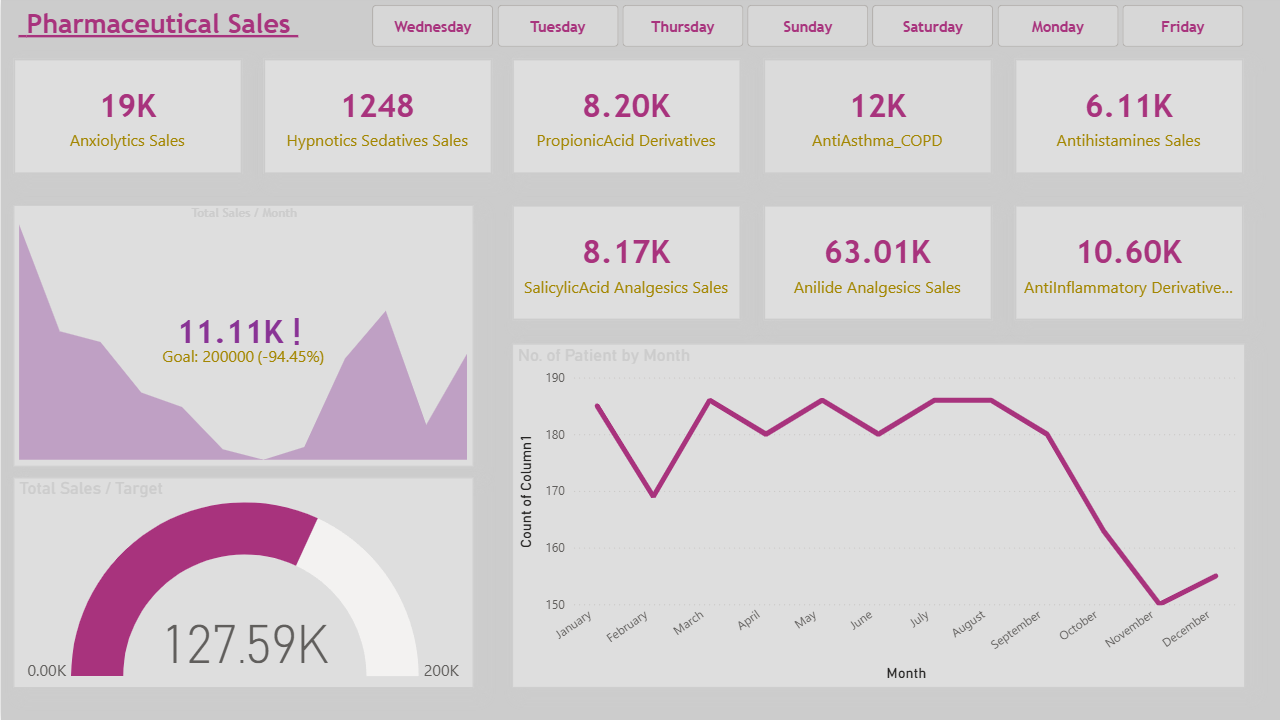

Layout of this report page (visuals, bound fields, positions):
{"tool":"powerbi","page":{"name":"Page 1","canvas":[1280,720],"ordinal":0},"visuals":[{"type":"kpi","title":"Total Sales / Month","fields":{"TrendLine":["cleaned_data.Month"],"Indicator":["cleaned_data.Total Sales"],"Goal":["cleaned_data.Target"]},"box":[12.5,205,460,261.2],"z":0},{"type":"card","fields":{"Values":["Sum(cleaned_data.Anilide_Analgesics_Sales)"]},"box":[762.5,205,228.8,115],"z":1000},{"type":"card","fields":{"Values":["Sum(cleaned_data.AntiInflammatory_Derivatives_Sales)"]},"box":[1013.8,205,228.8,115],"z":2000},{"type":"card","fields":{"Values":["Sum(cleaned_data.Antihistamines_Sales)"]},"box":[1013.8,58.8,228.8,115],"z":3000},{"type":"card","fields":{"Values":["Sum(cleaned_data.AntiAsthma_COPD_Sales)"]},"box":[762.5,58.8,228.8,115],"z":4000},{"type":"advancedSlicerVisual","fields":{"Values":["cleaned_data.Weekday"]},"box":[346.2,0,922.5,52.5],"z":5000},{"type":"card","fields":{"Values":["Sum(cleaned_data.PropionicAcid_Derivatives_Sales)"]},"box":[511.2,58.8,228.8,115],"z":6000},{"type":"card","fields":{"Values":["Sum(cleaned_data.Hypnotics_Sedatives_Sales)"]},"box":[262.5,58.8,228.8,115],"z":7000},{"type":"card","fields":{"Values":["Sum(cleaned_data.Anxiolytics_Sales)"]},"box":[12.5,58.8,228.8,115],"z":8000},{"type":"card","fields":{"Values":["Sum(cleaned_data.SalicylicAcid_Analgesics_Sales)"]},"box":[511.2,205,228.8,115],"z":9000},{"type":"lineChart","title":"No. of Patient by Month","fields":{"Y":["CountNonNull(cleaned_data.Column1)"],"Category":["cleaned_data.Date.Variation.Date Hierarchy.Month"]},"box":[511.2,343.8,732.5,343.8],"z":10000},{"type":"gauge","title":"Total Sales / Target","fields":{"Y":["cleaned_data.Total Sales"],"MaxValue":["cleaned_data.Target"]},"box":[12.5,477.5,460,210],"z":11000},{"type":"textbox","box":[12.5,3.8,290,45],"z":11001}]}

Visuals, with their boxes in screenshot pixels (x1, y1, x2, y2), scaled from the page's 1280x720 canvas onto the 1280x720 screenshot:
"Total Sales / Month" kpi: [left=12, top=205, right=472, bottom=466]
card - Sum(cleaned_data.Anilide_Analgesics_Sales): [left=762, top=205, right=991, bottom=320]
card - Sum(cleaned_data.AntiInflammatory_Derivatives_Sales): [left=1014, top=205, right=1243, bottom=320]
card - Sum(cleaned_data.Antihistamines_Sales): [left=1014, top=59, right=1243, bottom=174]
card - Sum(cleaned_data.AntiAsthma_COPD_Sales): [left=762, top=59, right=991, bottom=174]
advancedSlicerVisual - cleaned_data.Weekday: [left=346, top=0, right=1269, bottom=52]
card - Sum(cleaned_data.PropionicAcid_Derivatives_Sales): [left=511, top=59, right=740, bottom=174]
card - Sum(cleaned_data.Hypnotics_Sedatives_Sales): [left=262, top=59, right=491, bottom=174]
card - Sum(cleaned_data.Anxiolytics_Sales): [left=12, top=59, right=241, bottom=174]
card - Sum(cleaned_data.SalicylicAcid_Analgesics_Sales): [left=511, top=205, right=740, bottom=320]
"No. of Patient by Month" lineChart: [left=511, top=344, right=1244, bottom=688]
"Total Sales / Target" gauge: [left=12, top=478, right=472, bottom=688]
textbox: [left=12, top=4, right=302, bottom=49]
